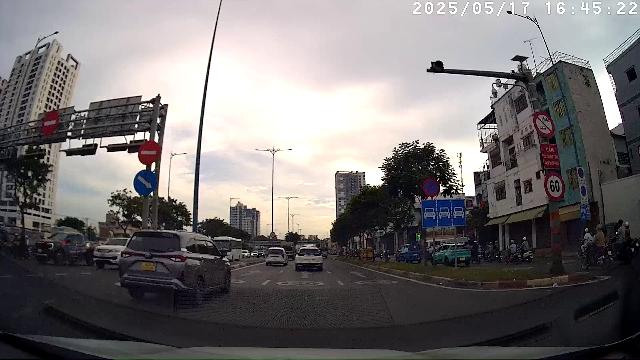102-cam-di-nguoc-chieu: (138, 140, 161, 165), (41, 109, 59, 137)
127-toc-do-toi-da-60: (543, 171, 566, 202)
130-cam-dung-va-do-xe: (423, 178, 440, 197)
302a-huong-phai-di-vong-chuong-ngai-vat-1: (133, 169, 157, 195)
